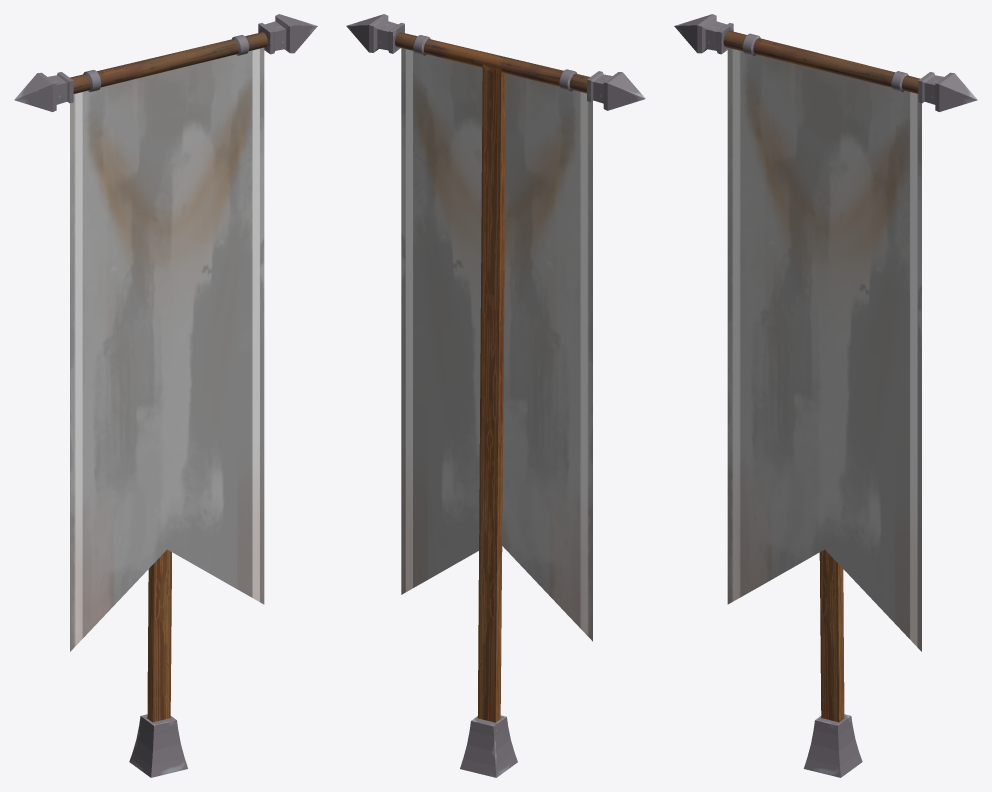
Rendered from Banner_Vertical_1.fbx.
The picture shows the model from 3 angles, left to right: view 1: azimuth 30°, elevation 25°; view 2: azimuth 150°, elevation 25°; view 3: azimuth 330°, elevation 25°; orthographic projection.
Visible parts, largest first — view 1: Banner_Vertical_1; view 2: Banner_Vertical_1; view 3: Banner_Vertical_1.
Part boxes in pixels (bbox=[...]): Banner_Vertical_1: bbox=[14, 14, 317, 777]; Banner_Vertical_1: bbox=[346, 14, 645, 777]; Banner_Vertical_1: bbox=[674, 14, 977, 777].
Bounding box in the file's own units: 104 × 235 × 15.25.
